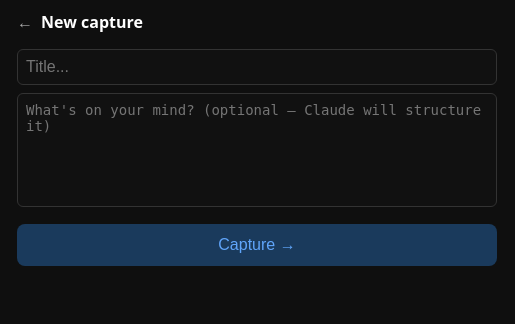
Test: /chat/new › shows error message when capture API returns 500
Type "Bad idea" into the field with placeholder "Title..." at [257, 67], box top-left (17, 49), bottom-right (497, 85)
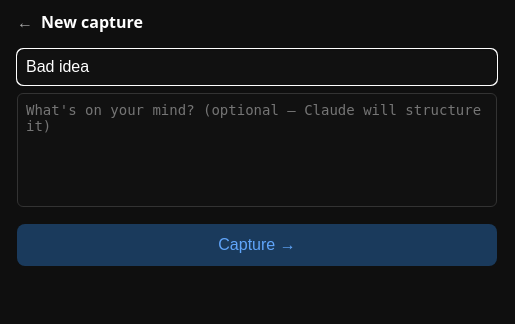
Click the button "Capture →" at [257, 245], box top-left (17, 224), bottom-right (497, 266)
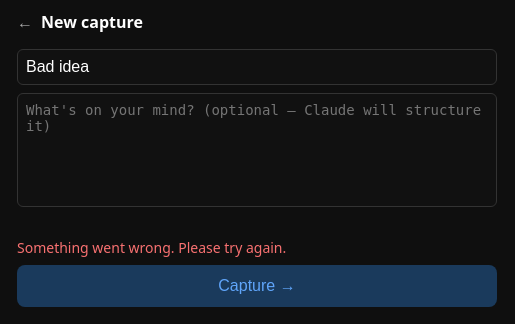
Expected: the message "Something went wrong. Please try again." is shown, top-left (17, 238), bottom-right (286, 257)
